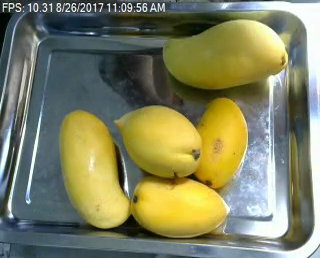Mango: (51, 108, 135, 226), (160, 17, 291, 89), (113, 104, 201, 181), (125, 172, 230, 235), (192, 95, 249, 189)
